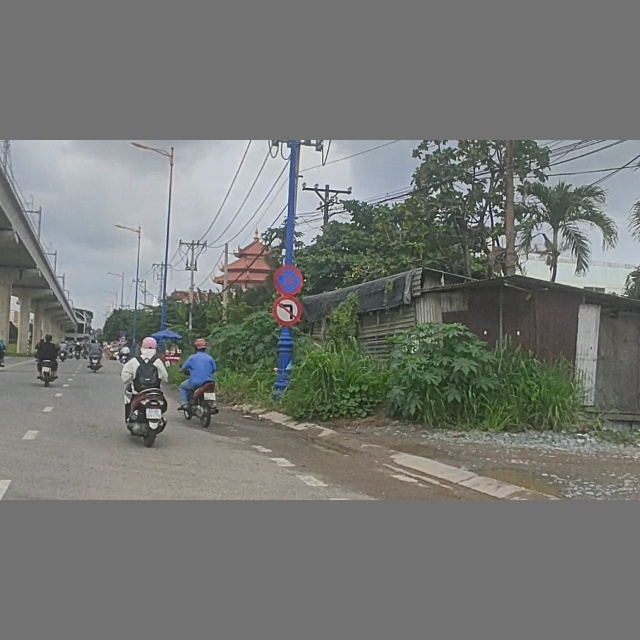P.123a: (273, 295, 302, 325)
P.130: (273, 266, 305, 294)
